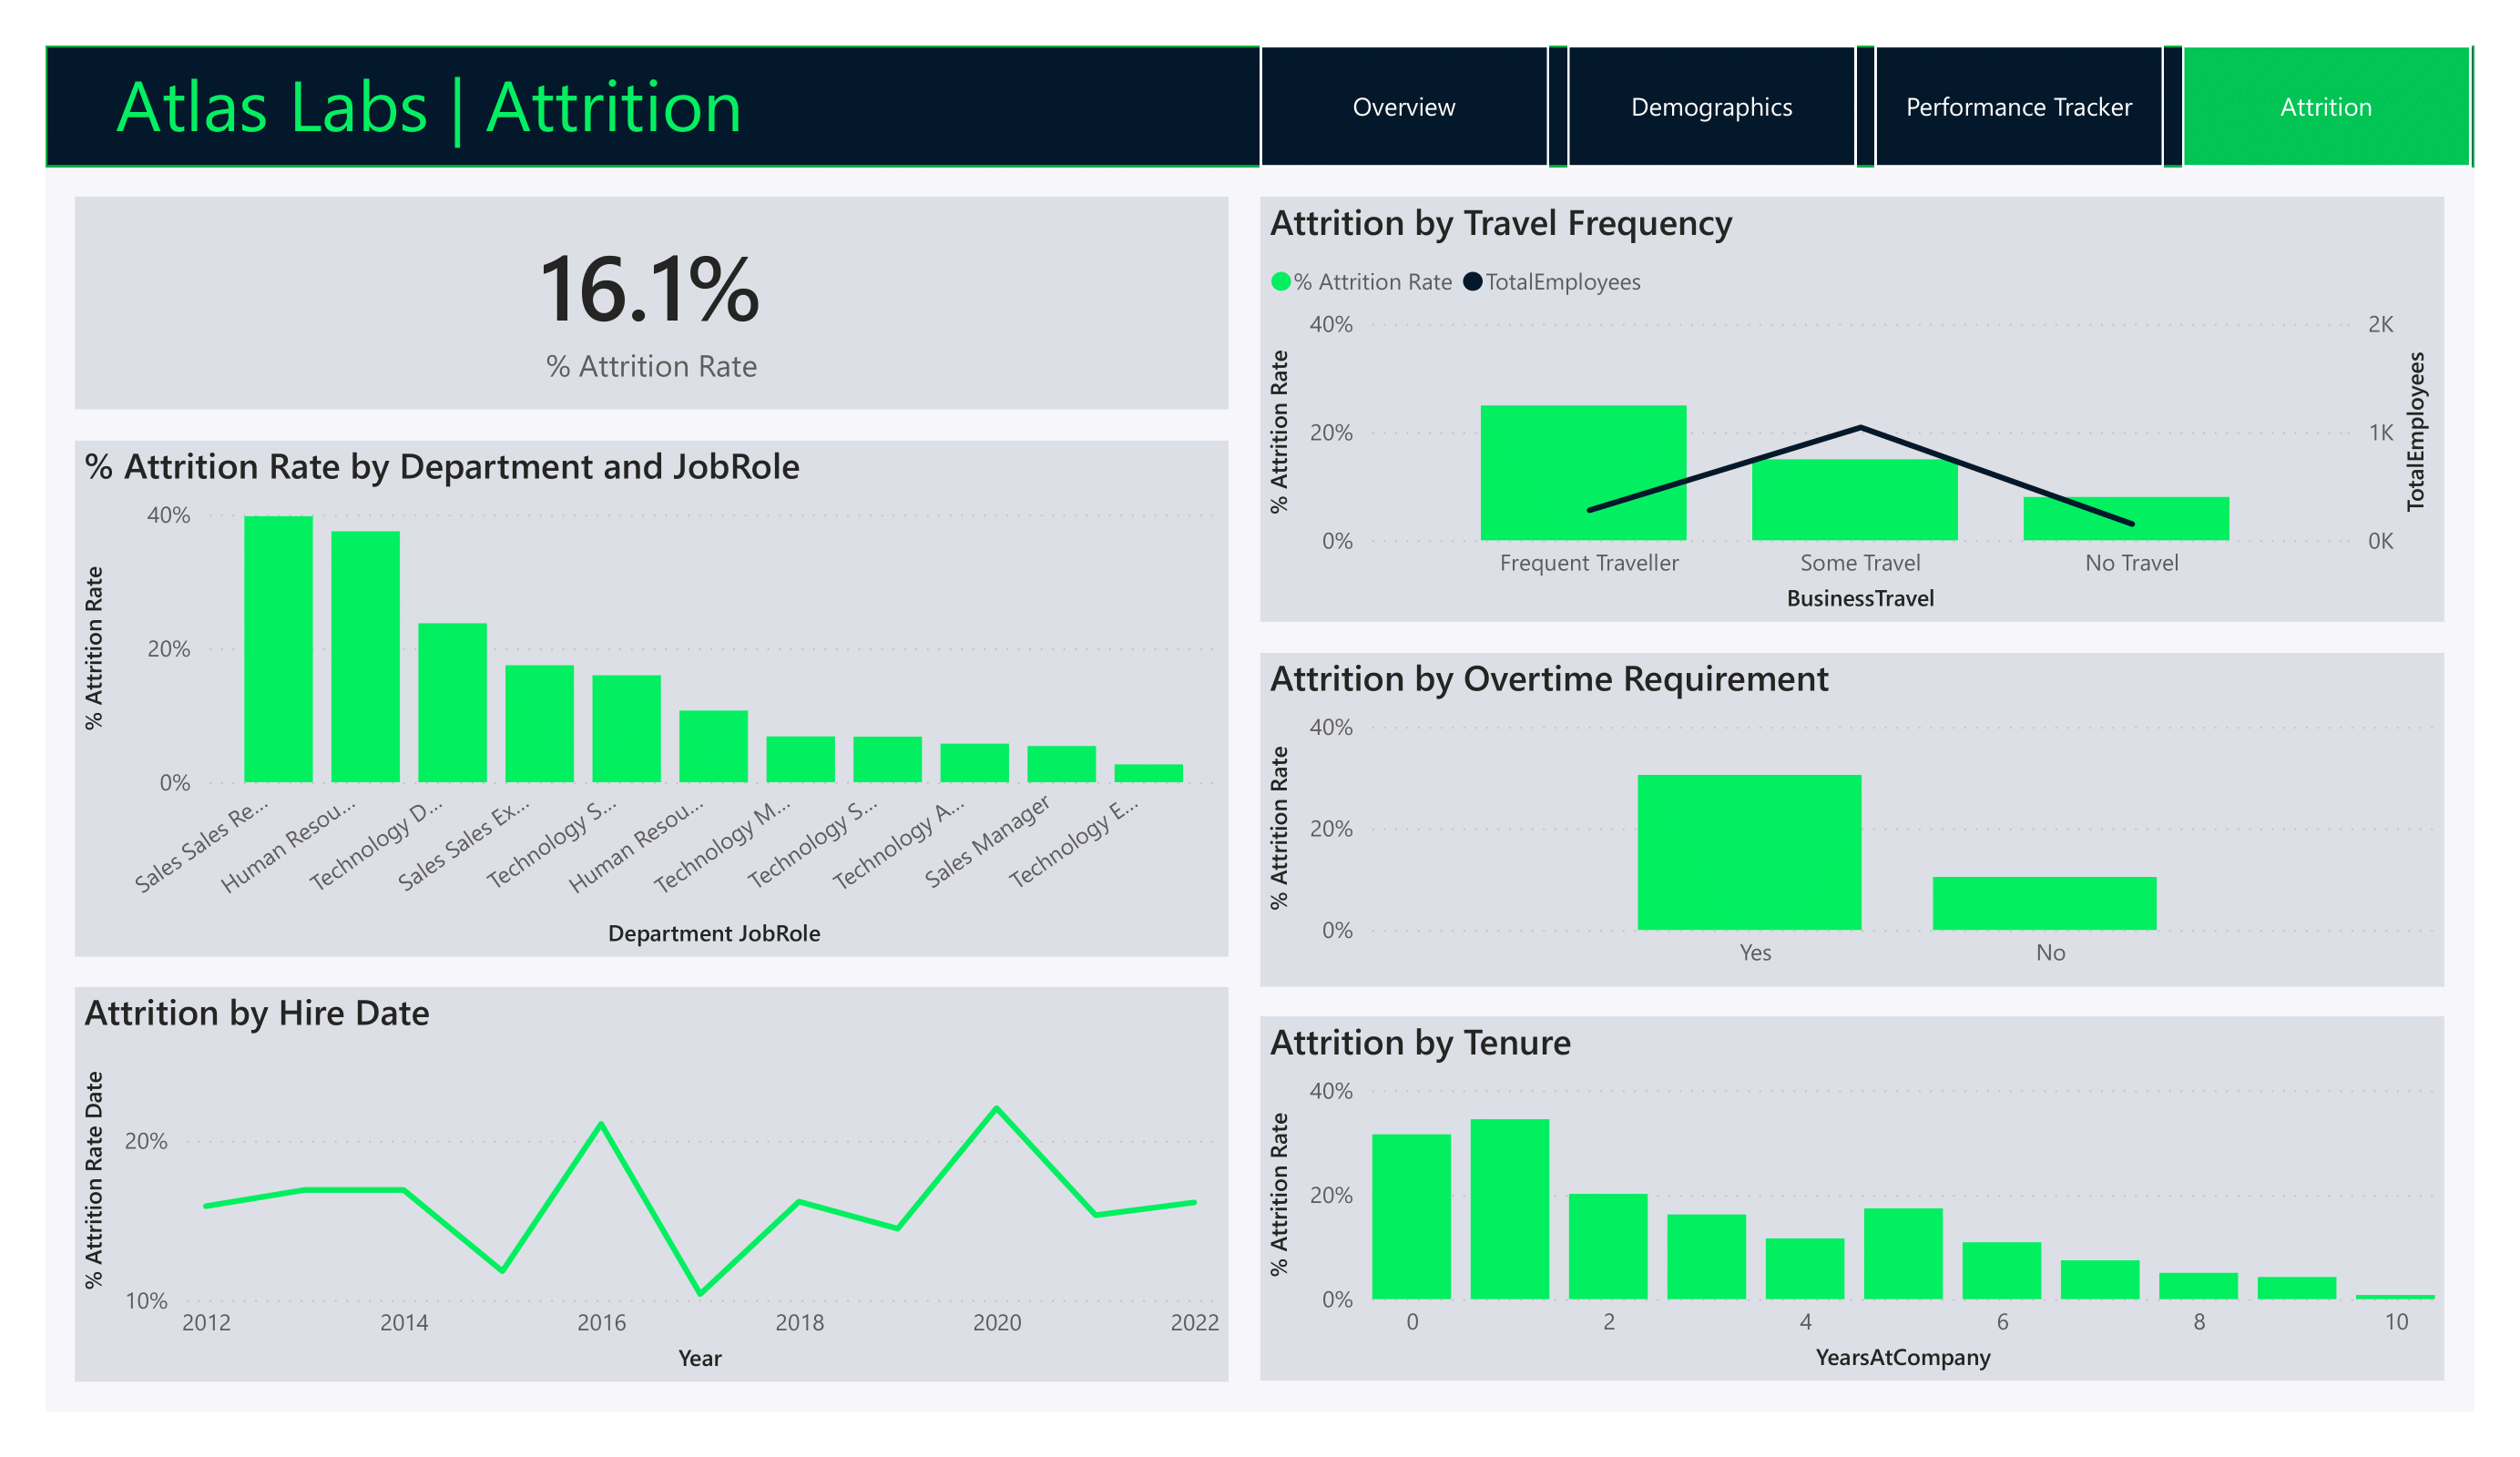

The page's visual inventory and layout, read from the dashboard file:
{"tool":"powerbi","page":{"name":"Attrition","canvas":[1280,720],"ordinal":3},"visuals":[{"type":"card","fields":{"Values":["_Measures.% Attrition Rate"]},"box":[16,80,608,112],"z":0},{"type":"columnChart","fields":{"Category":["DimEmployee.Department","DimEmployee.JobRole"],"Y":["_Measures.% Attrition Rate"]},"box":[16,208,608,272],"z":1000},{"type":"lineChart","title":"Attrition by Hire Date","fields":{"Y":["_Measures.% Attrition Rate Date"],"Category":["DimDate.Date.Variation.Date Hierarchy.Year","DimDate.Date.Variation.Date Hierarchy.Quarter","DimDate.Date.Variation.Date Hierarchy.Month","DimDate.Date.Variation.Date Hierarchy.Day"]},"box":[16,496,608,208],"z":2000},{"type":"lineStackedColumnComboChart","title":"Attrition by Travel Frequency","fields":{"Y":["_Measures.% Attrition Rate"],"Category":["DimEmployee.BusinessTravel"],"Y2":["_Measures.TotalEmployees"]},"box":[640,80,624,224],"z":3000},{"type":"columnChart","title":"Attrition by Overtime Requirement","fields":{"Category":["DimEmployee.OverTime"],"Y":["_Measures.% Attrition Rate"]},"box":[640,320,624,176],"z":4000},{"type":"columnChart","title":"Attrition by Tenure","fields":{"Category":["DimEmployee.YearsAtCompany"],"Y":["_Measures.% Attrition Rate"]},"box":[640,512,624,192],"z":5000},{"type":"shape","box":[0,0,1280,64],"z":6000},{"type":"textbox","box":[32,0,624,64],"z":7000},{"type":"pageNavigator","box":[640,0,640,64],"z":8000}]}

Visuals, with their boxes on the page's 1280x720 design canvas (x1, y1, x2, y2). These are canvas units, not pixel positions in the 2520x1457 screenshot, which may show the page scaled, cropped or inside an application window:
card - _Measures.% Attrition Rate: 16:80:624:192
columnChart - DimEmployee.Department x DimEmployee.JobRole: 16:208:624:480
"Attrition by Hire Date" lineChart: 16:496:624:704
"Attrition by Travel Frequency" lineStackedColumnComboChart: 640:80:1264:304
"Attrition by Overtime Requirement" columnChart: 640:320:1264:496
"Attrition by Tenure" columnChart: 640:512:1264:704
shape: 0:0:1280:64
textbox: 32:0:656:64
pageNavigator: 640:0:1280:64
